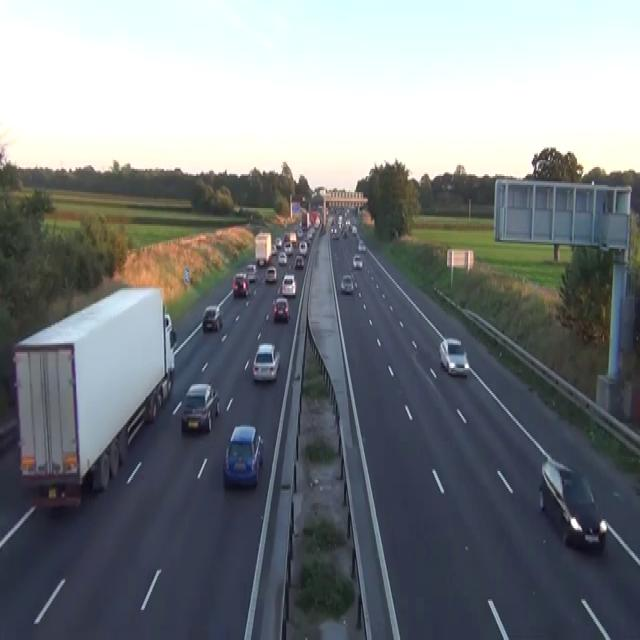Car: (538, 457, 607, 551), (223, 423, 263, 487), (180, 382, 220, 432), (439, 338, 469, 377), (252, 342, 280, 381), (330, 212, 357, 240), (0, 416, 19, 455), (202, 304, 222, 331), (272, 297, 290, 322), (164, 313, 176, 350), (232, 272, 249, 297), (281, 274, 296, 297), (340, 274, 354, 293), (265, 265, 277, 283), (246, 263, 256, 283), (352, 252, 362, 268), (298, 240, 307, 256), (294, 254, 304, 268), (277, 251, 287, 265), (357, 238, 366, 251), (284, 240, 292, 254), (306, 228, 314, 242), (350, 272, 357, 288), (275, 236, 282, 249), (330, 228, 339, 238), (257, 256, 265, 267), (296, 228, 304, 238), (271, 244, 277, 256), (313, 217, 320, 227), (344, 219, 351, 229), (351, 224, 357, 235), (446, 182, 454, 190), (283, 233, 290, 242), (341, 228, 347, 238)
Truck: (12, 284, 176, 510), (254, 231, 271, 267)
